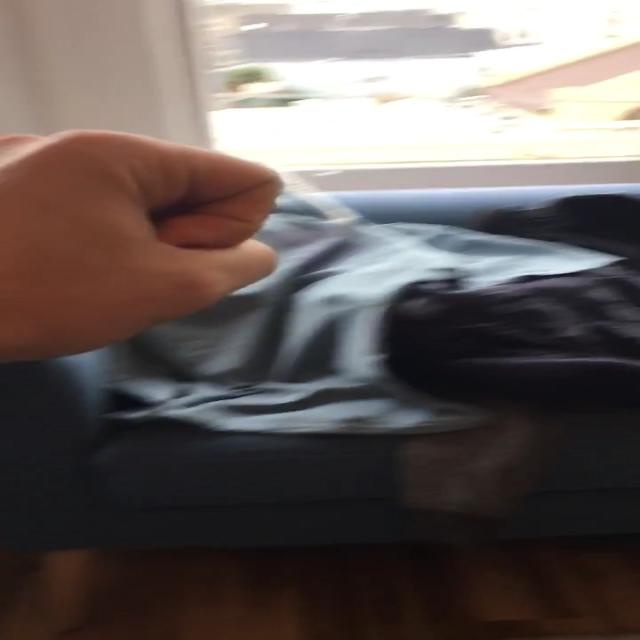Rock: (0, 128, 297, 363)
